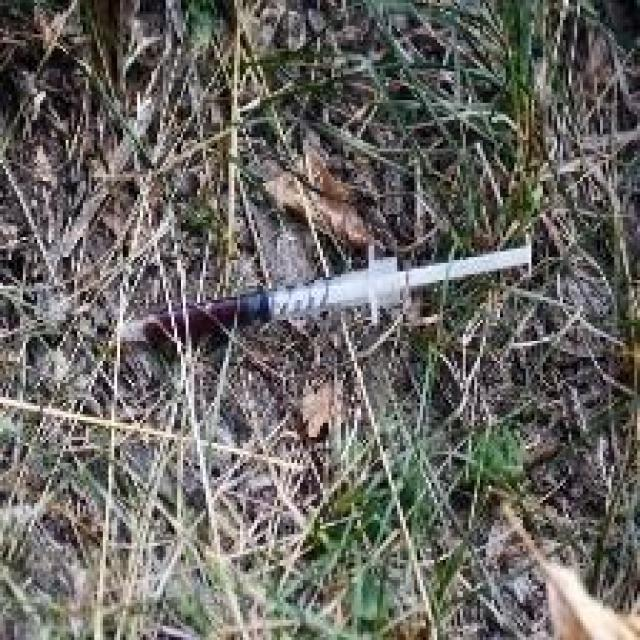syringe: (99, 247, 541, 375)
